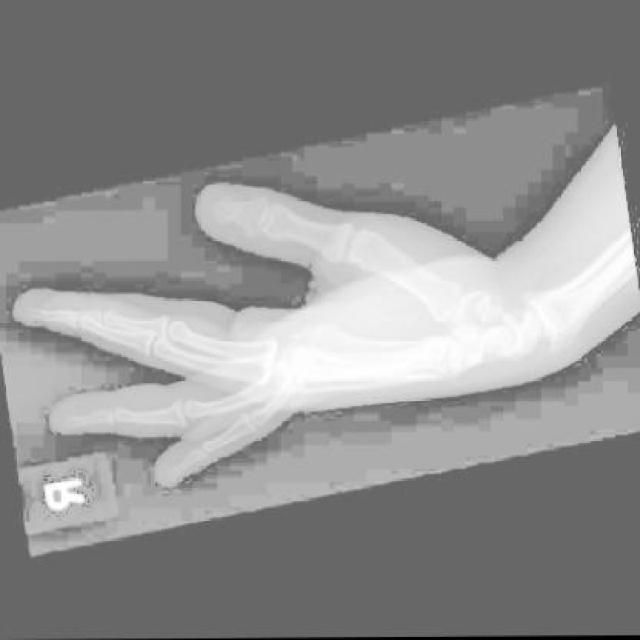Fracture: (168, 394, 190, 425)
